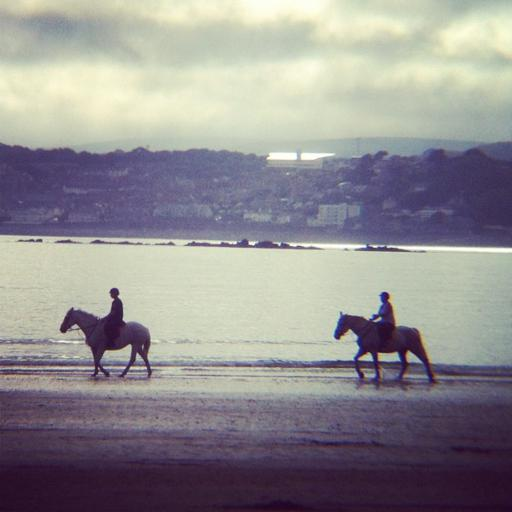horse: (330, 308, 434, 382), (57, 302, 154, 378)
